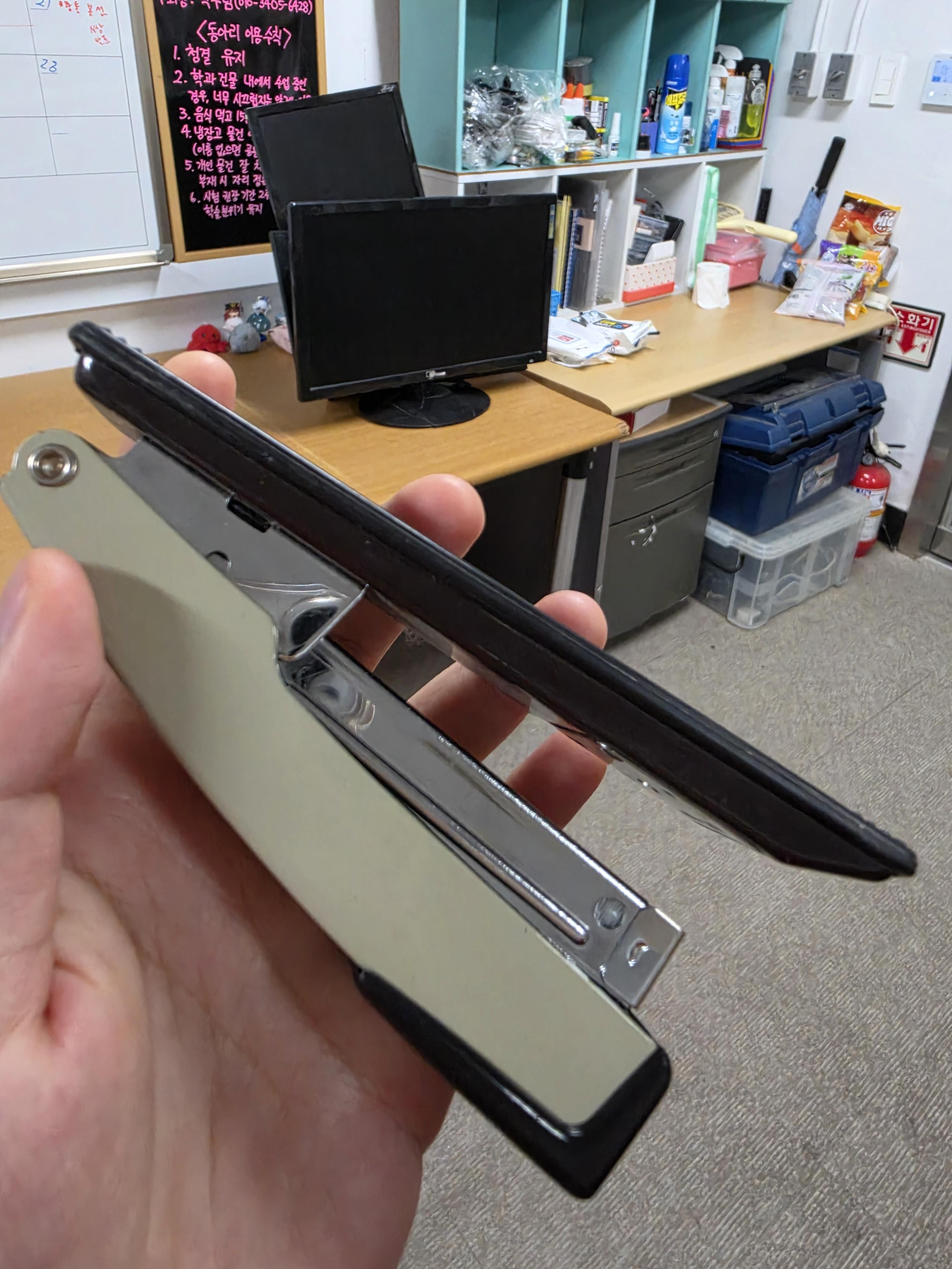stapler: (0, 320, 920, 1201)
tissue: (620, 240, 678, 303), (694, 260, 731, 311)
